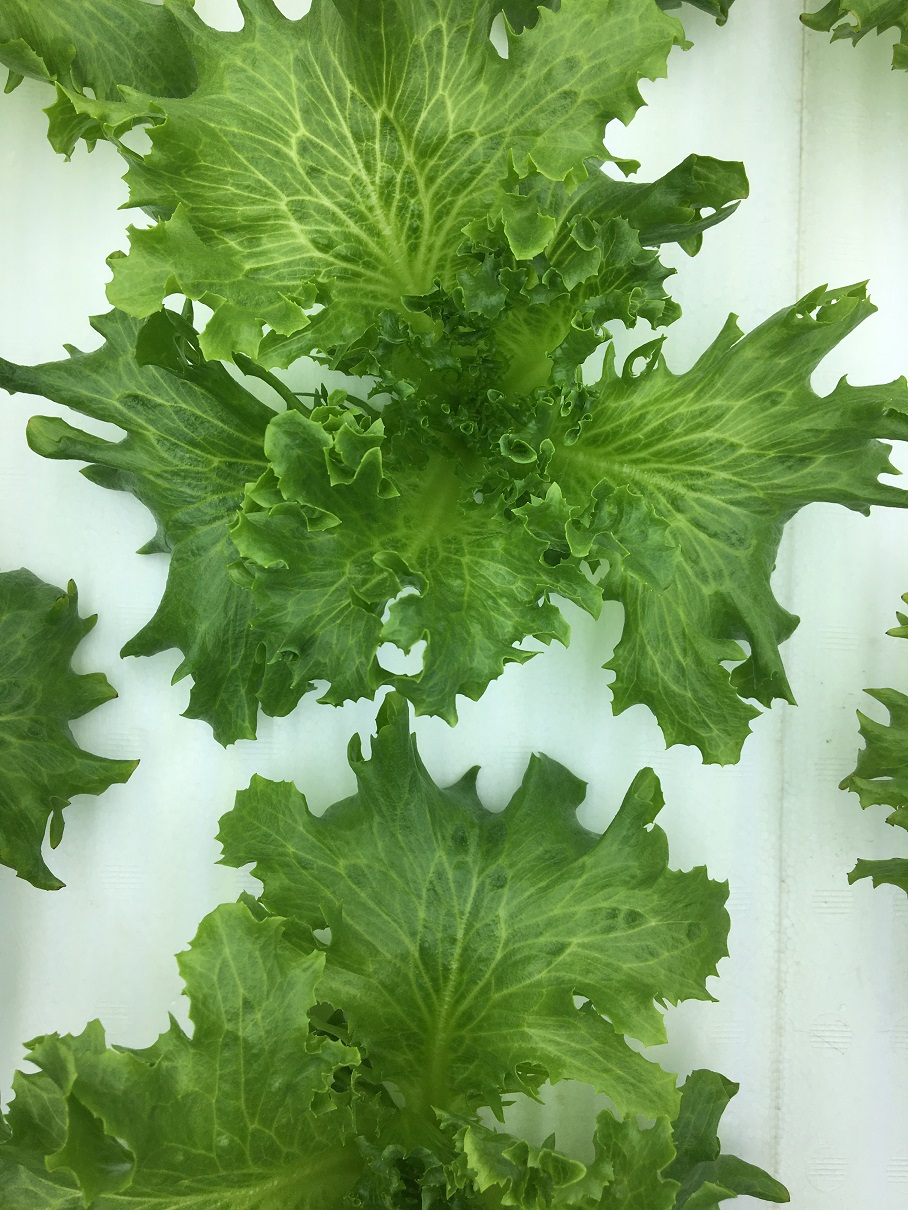tipburn: (793, 9, 815, 34), (111, 689, 132, 709)
